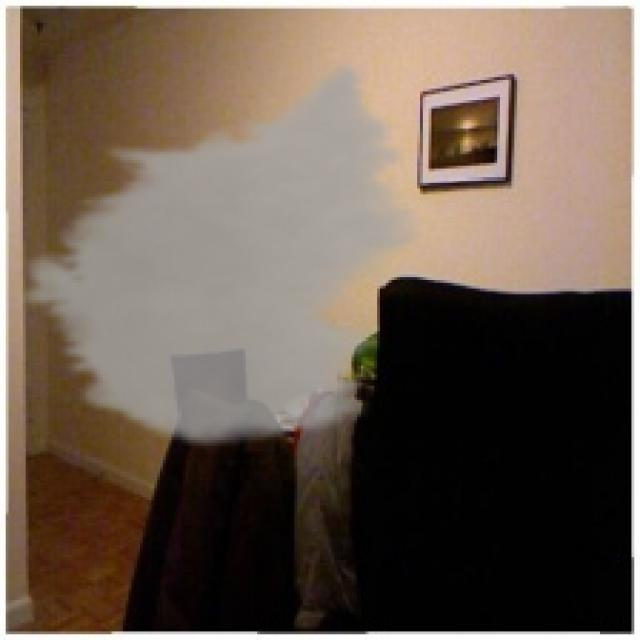smoke: (12, 60, 434, 451)
